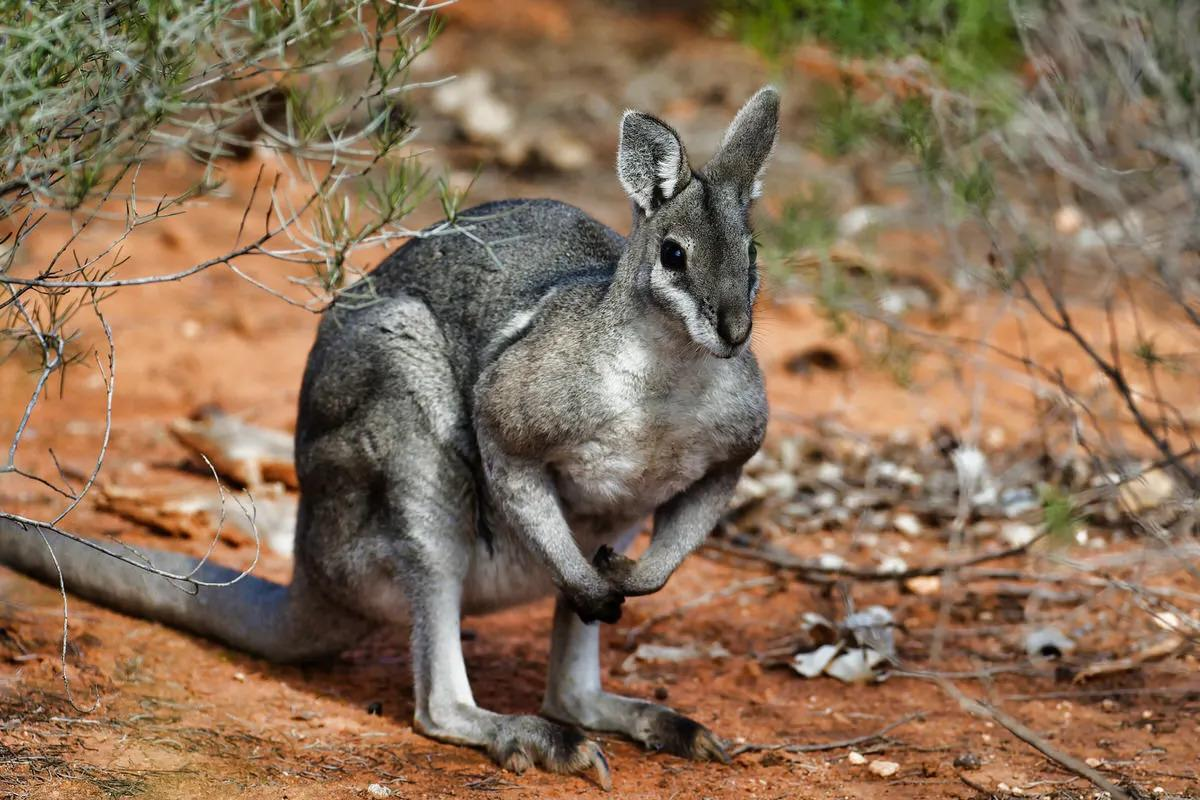Bridled-nail-tail wallaby: (0, 84, 788, 793)
